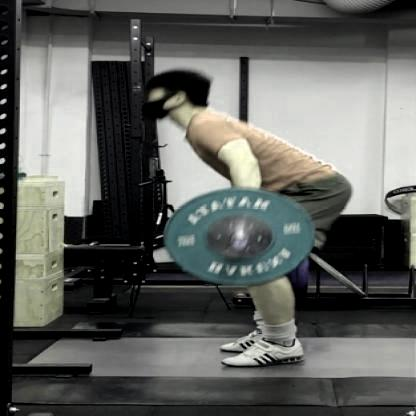Barbell: (222, 237, 254, 256)
